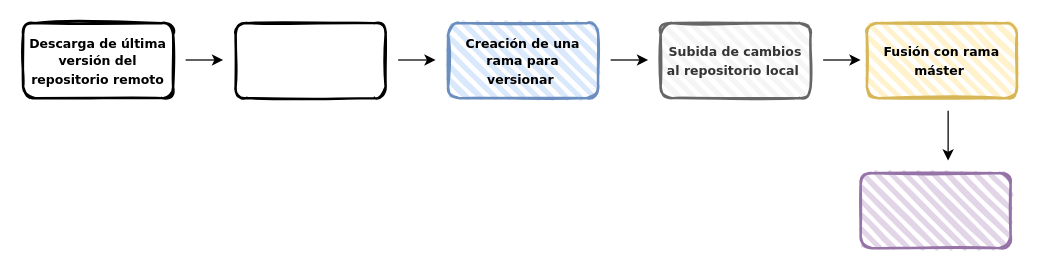
Some shapes in this 1039 by 270 pixel diagram are drawn without their labels. The shapes that lost their labels are listed below. From the top down, each one's box as (x1, y1, x2, y2) in pixels, then its label:
(234, 21, 386, 99): Trabajo en local
(859, 171, 1011, 249): Subida a repositorio remoto
